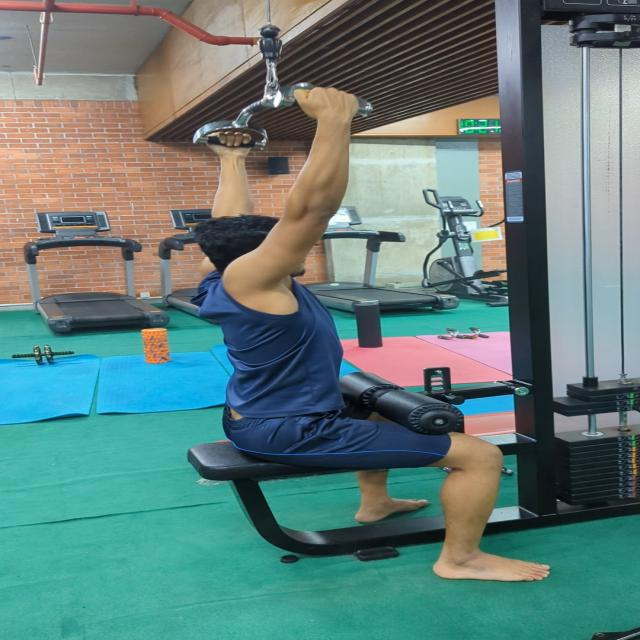Normal_LatPulldown: (160, 72, 581, 585)
